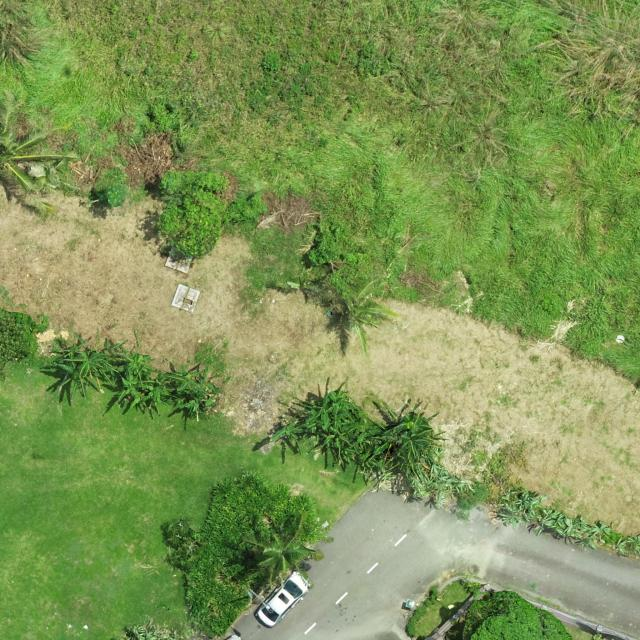Tree: (0, 91, 80, 194), (158, 169, 232, 260), (328, 273, 406, 356), (242, 511, 326, 586), (460, 590, 576, 640), (372, 398, 446, 462), (304, 378, 364, 429), (315, 417, 360, 463), (268, 416, 311, 456), (104, 187, 127, 206)
